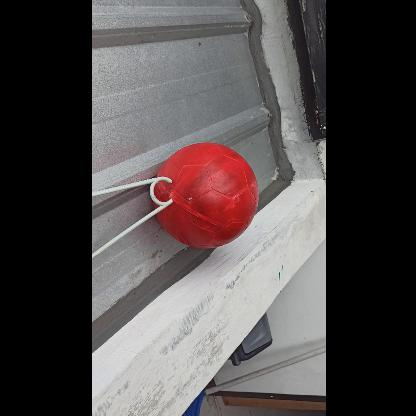red_ball: (150, 140, 258, 248)
